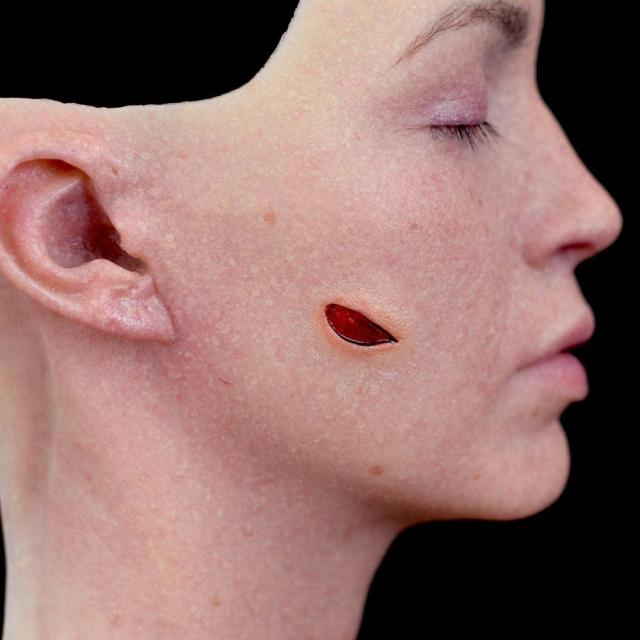Cut: (304, 290, 406, 353)
